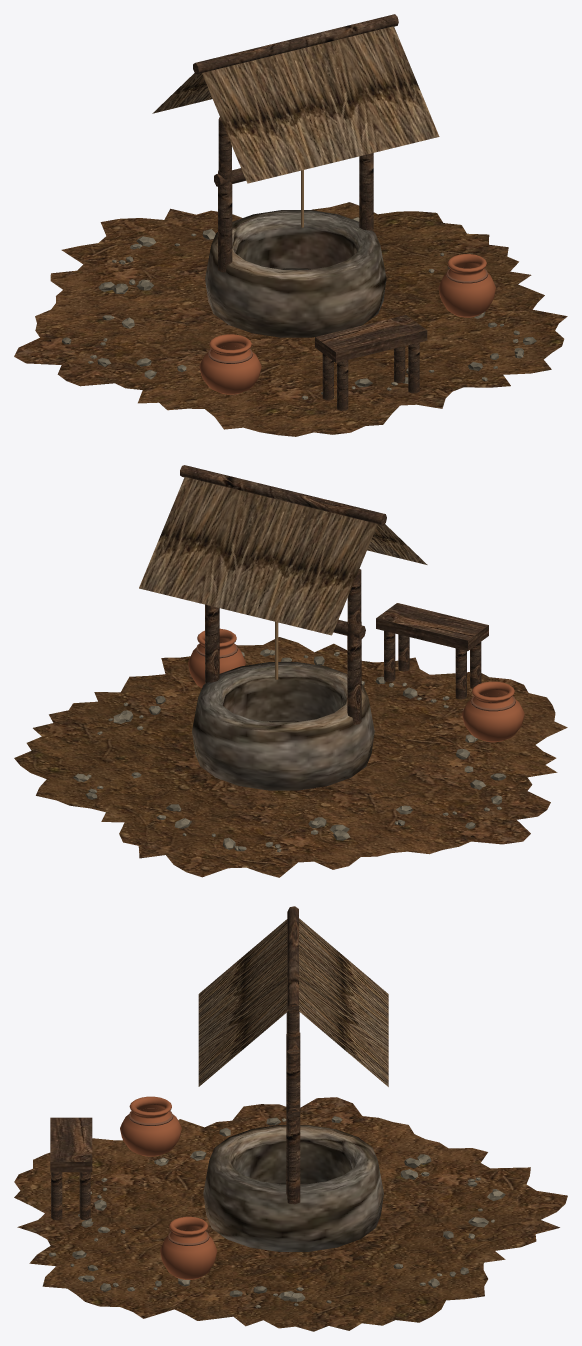
The model's file is well@1.glb.
3 views of the same model, one above another, from view 1: azimuth 30°, elevation 25°; view 2: azimuth 150°, elevation 25°; view 3: azimuth 270°, elevation 25° (orthographic).
Visible parts, largest first — view 1: part_0, part_6, part_2, part_4, part_7, part_1; view 2: part_0, part_6, part_2, part_4, part_7, part_1; view 3: part_0, part_2, part_6, part_4, part_7, part_1.
Part boxes in pixels (box(x1,y1,x2,y2)): part_0: box(14, 202, 567, 436); part_6: box(152, 26, 439, 183); part_2: box(205, 210, 386, 337); part_4: box(193, 14, 427, 410); part_7: box(199, 254, 495, 394); part_1: box(62, 217, 536, 399); part_0: box(14, 637, 567, 877); part_6: box(139, 477, 427, 635); part_2: box(192, 662, 374, 790); part_4: box(180, 465, 488, 724); part_7: box(188, 628, 524, 742); part_1: box(73, 649, 506, 852); part_0: box(14, 1097, 567, 1331); part_2: box(203, 1125, 383, 1251); part_6: box(198, 918, 388, 1086); part_4: box(50, 906, 300, 1220); part_7: box(120, 1096, 217, 1279); part_1: box(48, 1116, 505, 1308).
Size of the model in its own units: 3.63 by 1.94 by 3.62.
9 materials, 5 textured.
